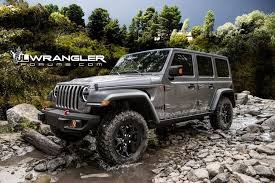mobil: (42, 31, 239, 149)
